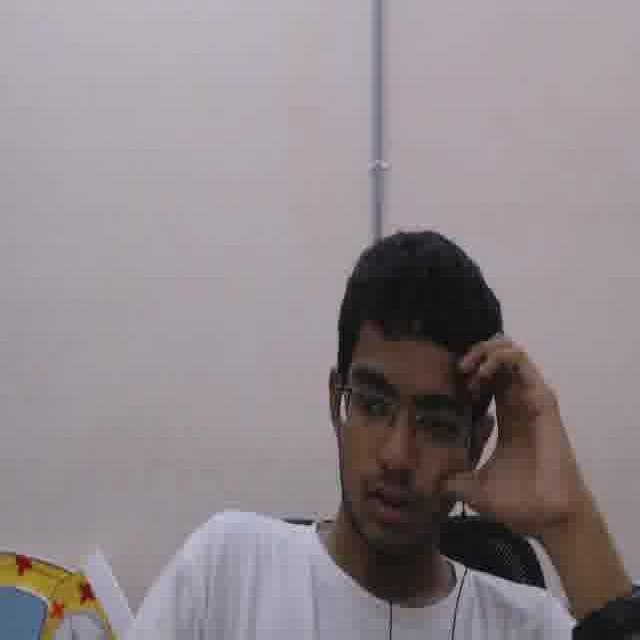Frustration: (337, 323, 469, 549)
